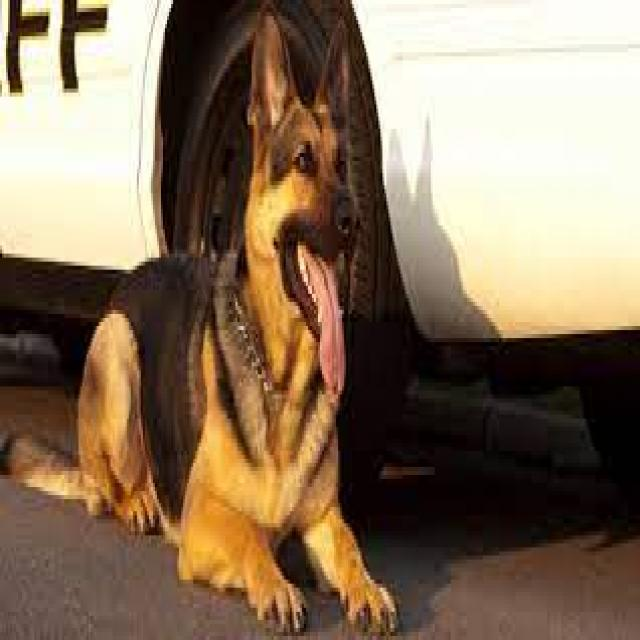Dog: (0, 0, 404, 640)
